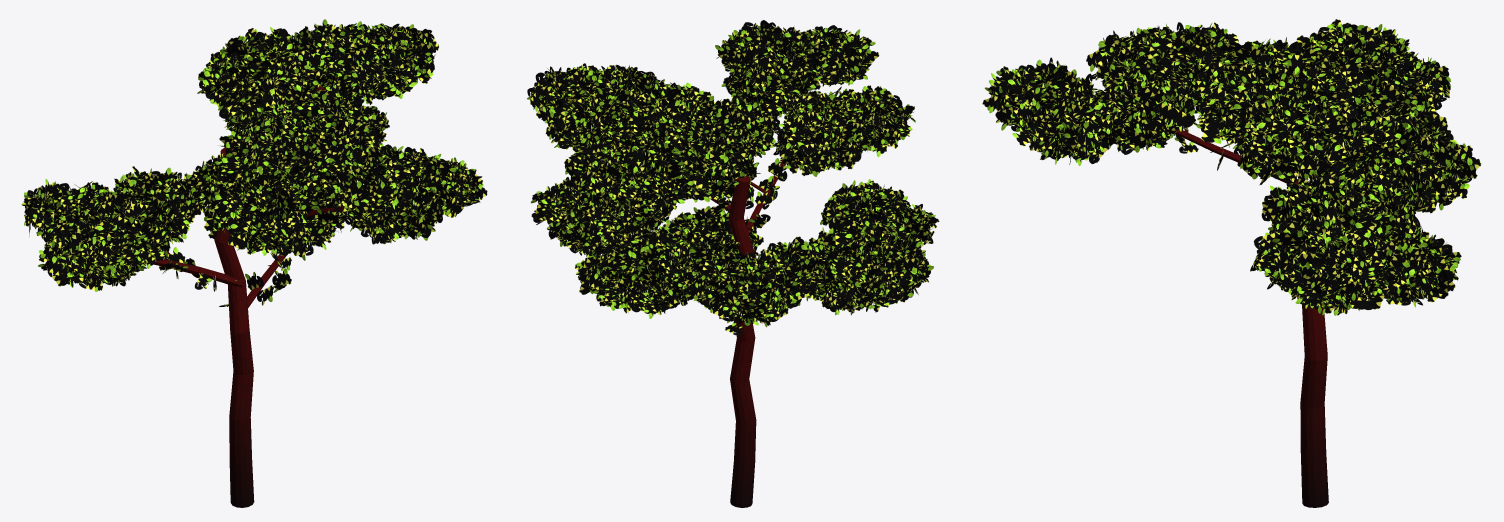
Rendered from acacia_flat_v02.glb.
3 views of the same model, side by side, from view 1: azimuth 30°, elevation 25°; view 2: azimuth 150°, elevation 25°; view 3: azimuth 270°, elevation 25° (orthographic). The views are drawn at different scales.
Parts seen in each view (by area): view 1: acacia_flat_v02; view 2: acacia_flat_v02; view 3: acacia_flat_v02.
Part boxes in pixels (x1,y1,x2,y2): acacia_flat_v02: (21,19,487,507); acacia_flat_v02: (527,20,939,507); acacia_flat_v02: (982,19,1481,507).
Bounding box in the file's own units: 10.66 × 10.84 × 10.08.
Materials: 2 (2 with a texture image).
